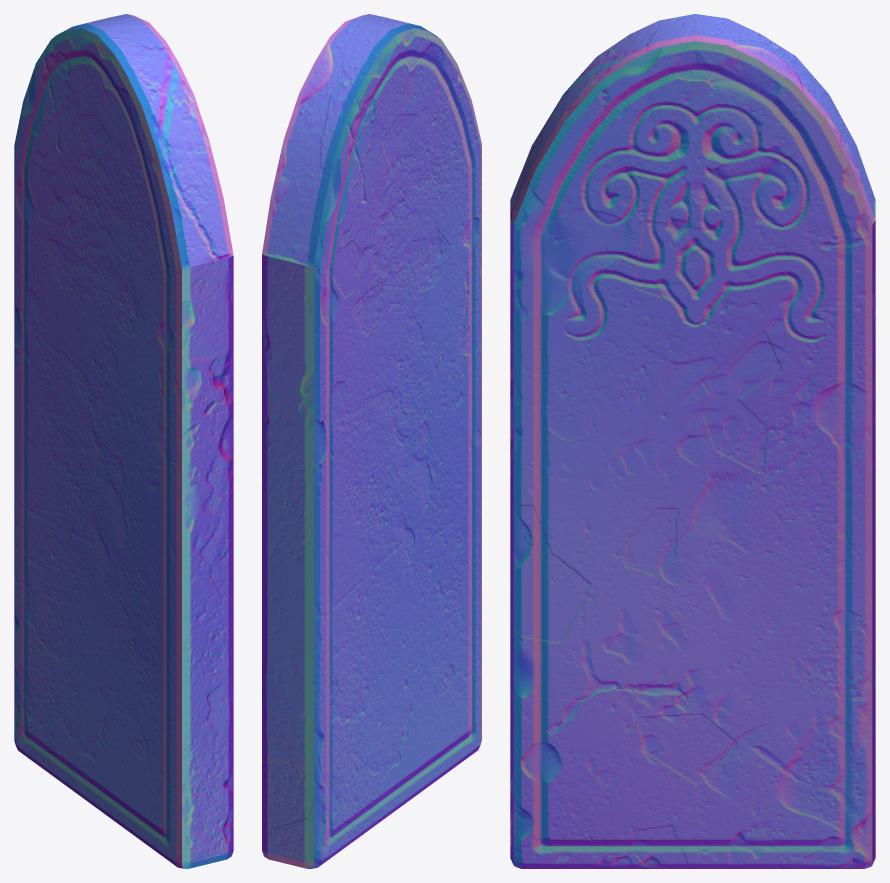
The model's file is Props_StoneThrone.fbx.
The picture shows the model from 3 angles, left to right: view 1: azimuth 30°, elevation 25°; view 2: azimuth 150°, elevation 25°; view 3: azimuth 270°, elevation 25°; orthographic projection. The views are drawn at different scales.
Parts seen in each view (by area): view 1: CDTMesh_StoneThrone2HP; view 2: CDTMesh_StoneThrone2HP; view 3: CDTMesh_StoneThrone2HP.
Part boxes in pixels (<box>): CDTMesh_StoneThrone2HP: <box>14,14,233,868</box>; CDTMesh_StoneThrone2HP: <box>262,14,481,868</box>; CDTMesh_StoneThrone2HP: <box>510,14,875,868</box>.
Bounding box in the file's own units: 0.2149 × 2.8 × 1.11.
